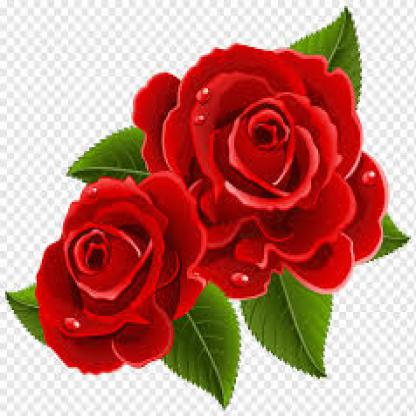Rose-Mawar: (122, 38, 386, 305), (26, 168, 199, 382)
